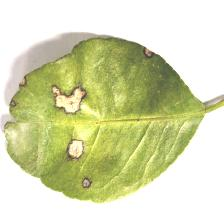canker: (44, 84, 92, 162)
